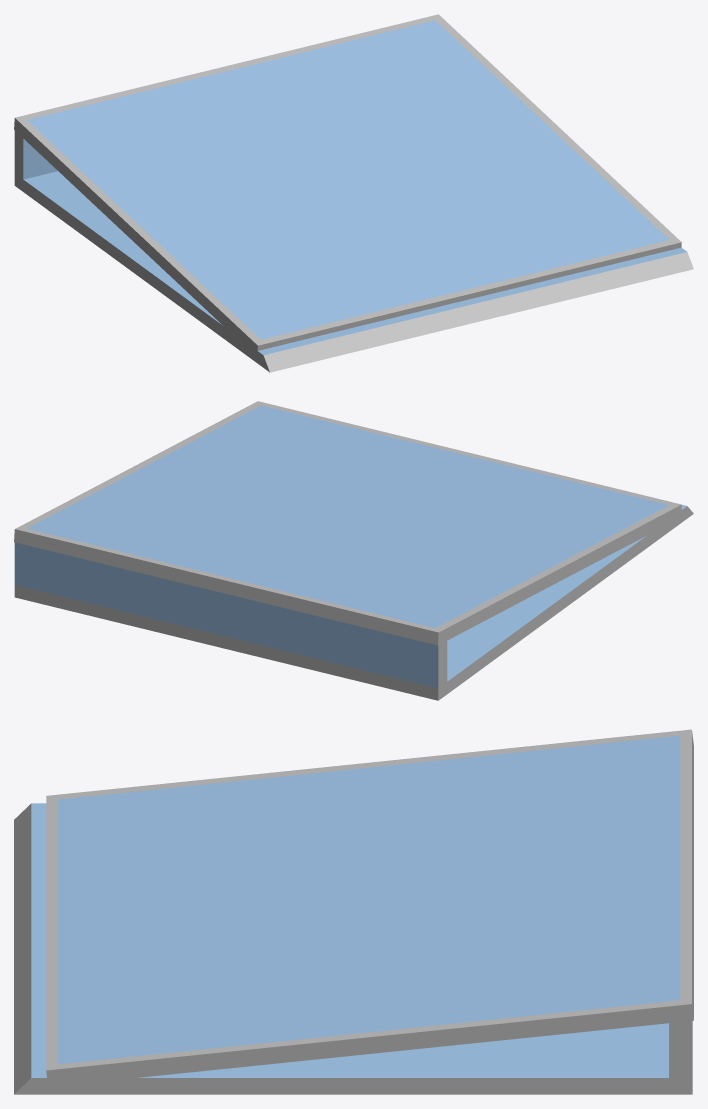
Rendered from Ordner.fbx.
3 renders of one model, top to bottom at view 1: azimuth 30°, elevation 25°; view 2: azimuth 150°, elevation 25°; view 3: azimuth 270°, elevation 25°, orthographic. The views are drawn at different scales.
Parts seen in each view (by area): view 1: Cube; view 2: Cube; view 3: Cube.
Boxes of the visible parts, left/top/right/bottom form: Cube: left=14, top=14, right=693, bottom=372; Cube: left=14, top=401, right=693, bottom=700; Cube: left=14, top=729, right=693, bottom=1094.
Bounding box in the file's own units: 200 × 30.7 × 209.
